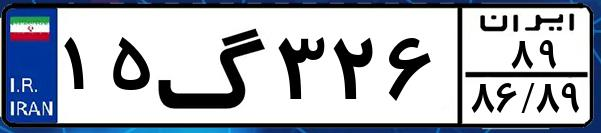1: (57, 26, 110, 100)
2: (330, 28, 385, 110)
3: (270, 28, 330, 110)
5: (110, 28, 156, 98)
6: (385, 28, 445, 110), (495, 70, 520, 125)
8: (508, 27, 537, 80), (470, 70, 495, 125), (535, 70, 560, 125)
9: (560, 70, 590, 125), (537, 27, 568, 80)
گ: (156, 12, 270, 120)
